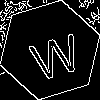W: (25, 25, 85, 82)
